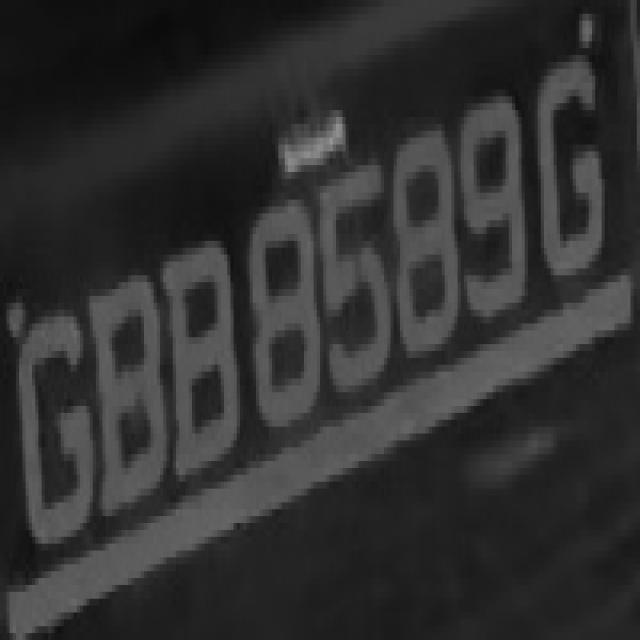5: (316, 144, 394, 433)
8: (387, 96, 464, 392), (243, 179, 323, 447)
9: (451, 89, 531, 358)
B: (160, 207, 243, 516), (90, 241, 163, 544)
G: (10, 275, 90, 578), (528, 55, 621, 303)
